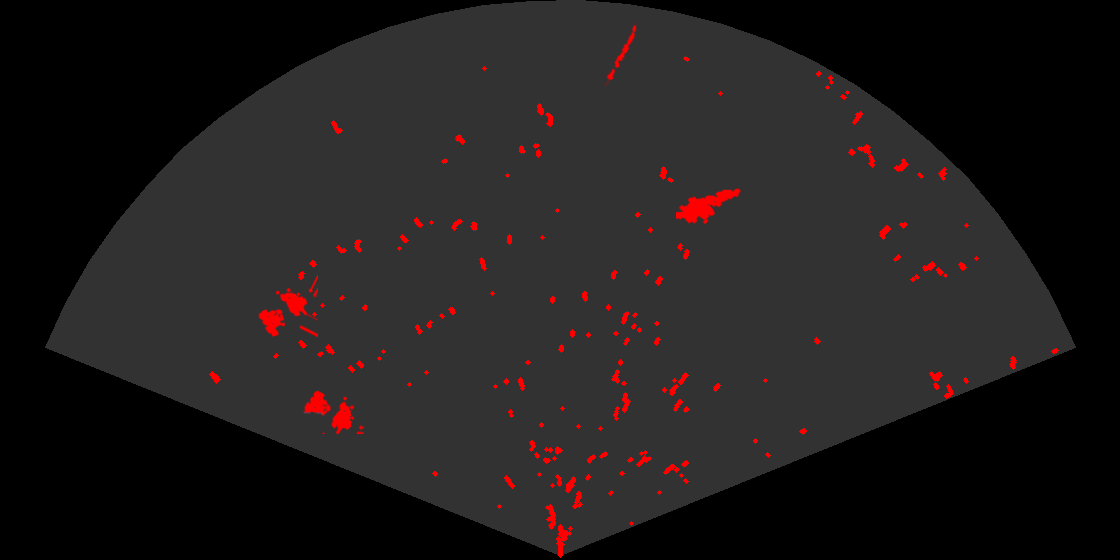cage: (257, 273, 318, 339), (302, 389, 364, 434)
chain: (602, 22, 639, 86)
frogman: (676, 187, 741, 226)
